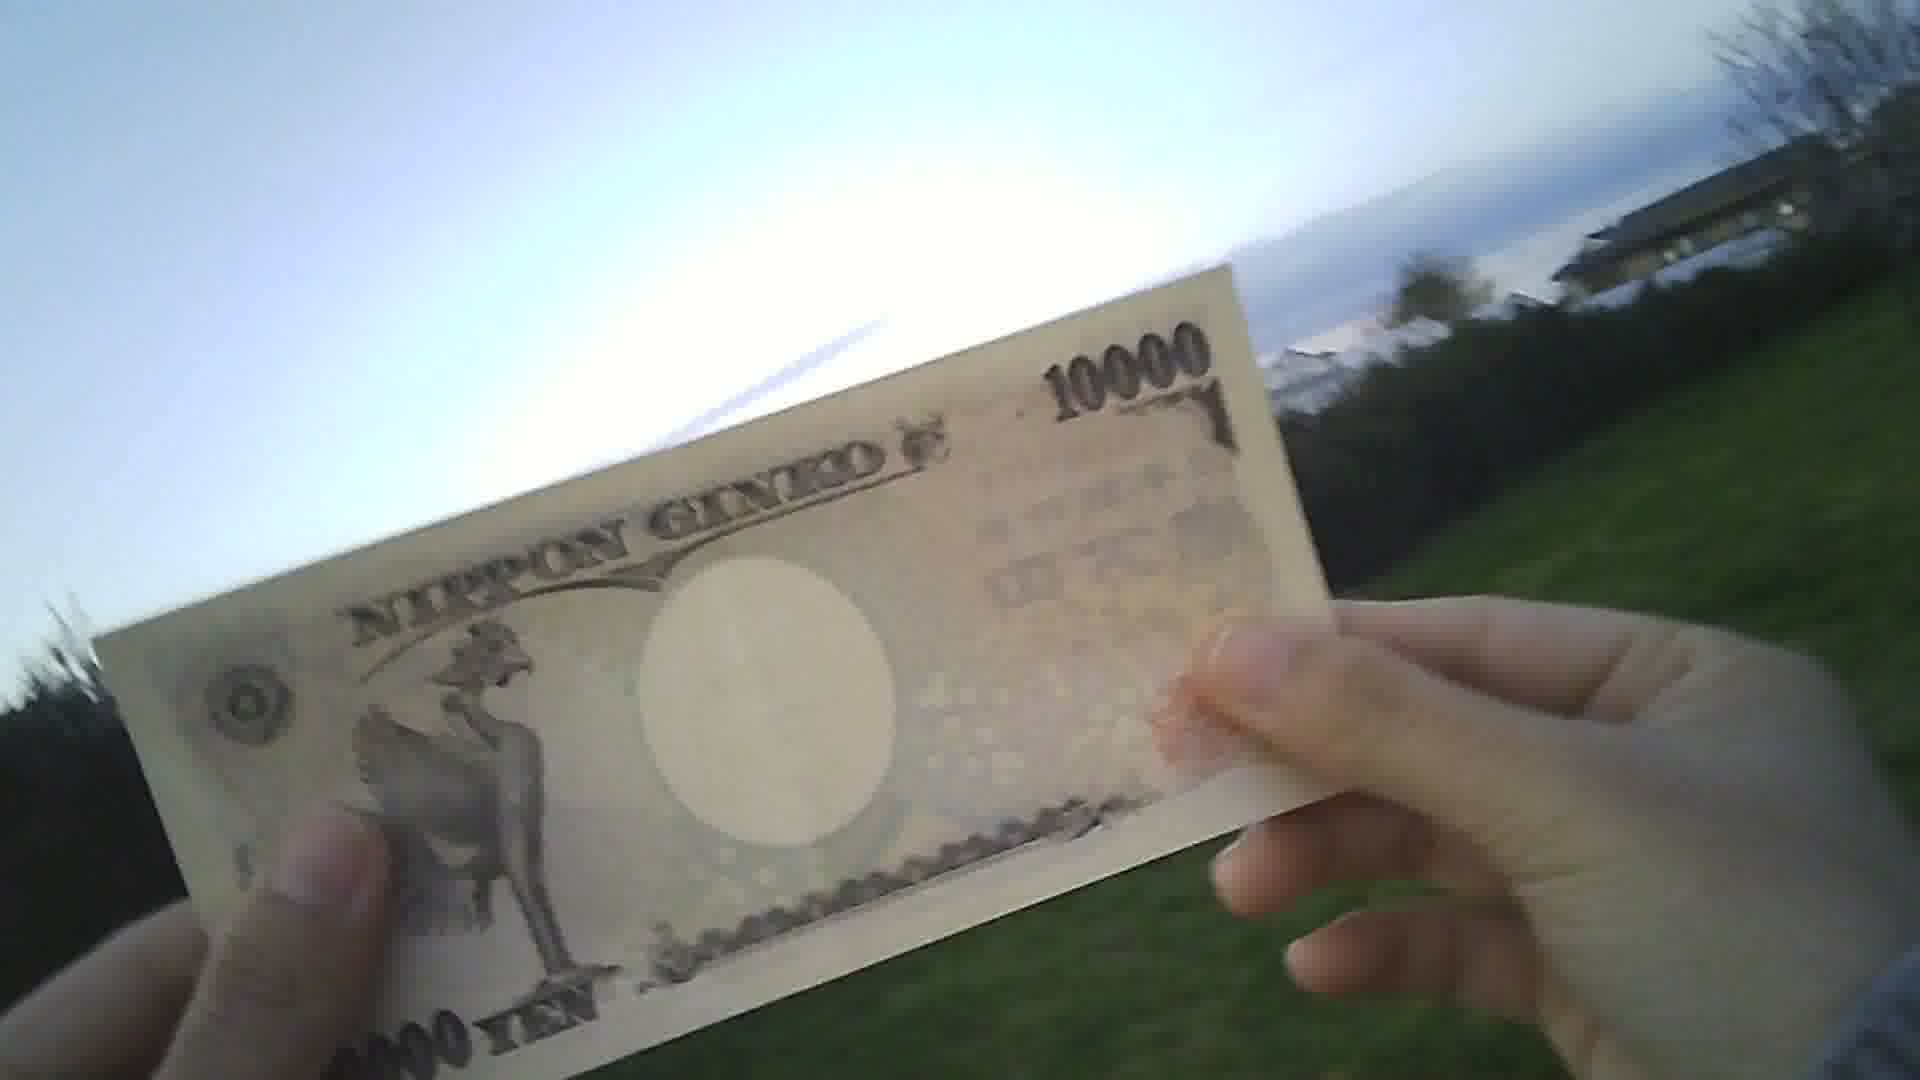10,000 Yen: (105, 231, 1400, 1079)
